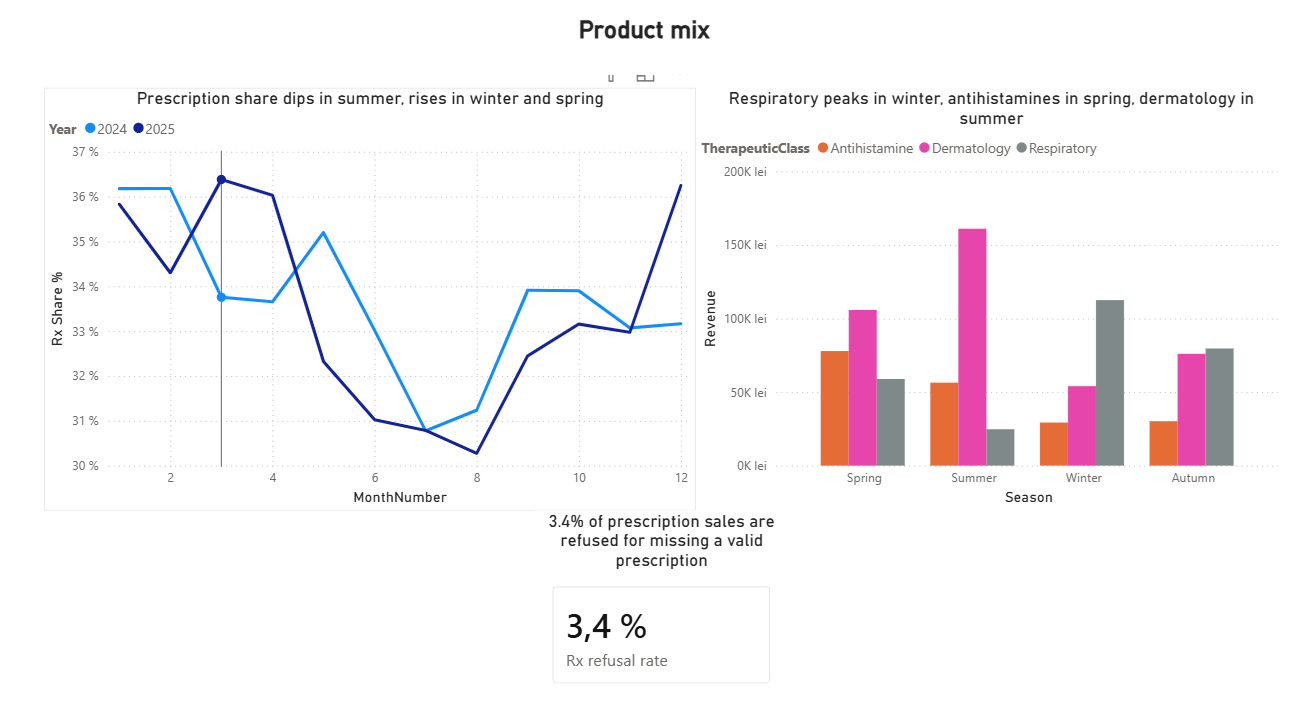

The dashboard page shown, as its layout file describes it:
{"tool":"powerbi","page":{"name":"Product mix","canvas":[1280,720],"ordinal":2},"visuals":[{"type":"lineChart","title":"Prescription share dips in summer, rises in winter and spring","fields":{"Category":["DimDate.MonthNumber"],"Y":["FactSales.Rx Share %"],"Series":["DimDate.Year"]},"box":[48.7,91.2,638.3,413.4],"z":0},{"type":"clusteredColumnChart","title":"Respiratory peaks in winter, antihistamines in spring, dermatology in summer","fields":{"Category":["DimDate.Season"],"Y":["FactSales.Revenue"],"Series":["DimProduct.TherapeuticClass"]},"box":[687,91.2,577.1,413.4],"z":1000},{"type":"cardVisual","title":"3.4% of prescription sales are refused for missing a valid prescription","fields":{"Data":["FactSales.Rx refusal rate"]},"box":[529.6,504.6,247.3,187.4],"z":2000},{"type":"textbox","box":[527,15.9,251.9,63.6],"z":3000}]}

Visuals, with their boxes in screenshot pixels (x1, y1, x2, y2), scaled from the page's 1280x720 canvas onto the 1297x714 screenshot:
"Prescription share dips in summer, rises in winter and spring" lineChart: {"x1": 49, "y1": 90, "x2": 696, "y2": 500}
"Respiratory peaks in winter, antihistamines in spring, dermatology in summer" clusteredColumnChart: {"x1": 696, "y1": 90, "x2": 1281, "y2": 500}
"3.4% of prescription sales are refused for missing a valid prescription" cardVisual: {"x1": 537, "y1": 500, "x2": 787, "y2": 686}
textbox: {"x1": 534, "y1": 16, "x2": 789, "y2": 79}
